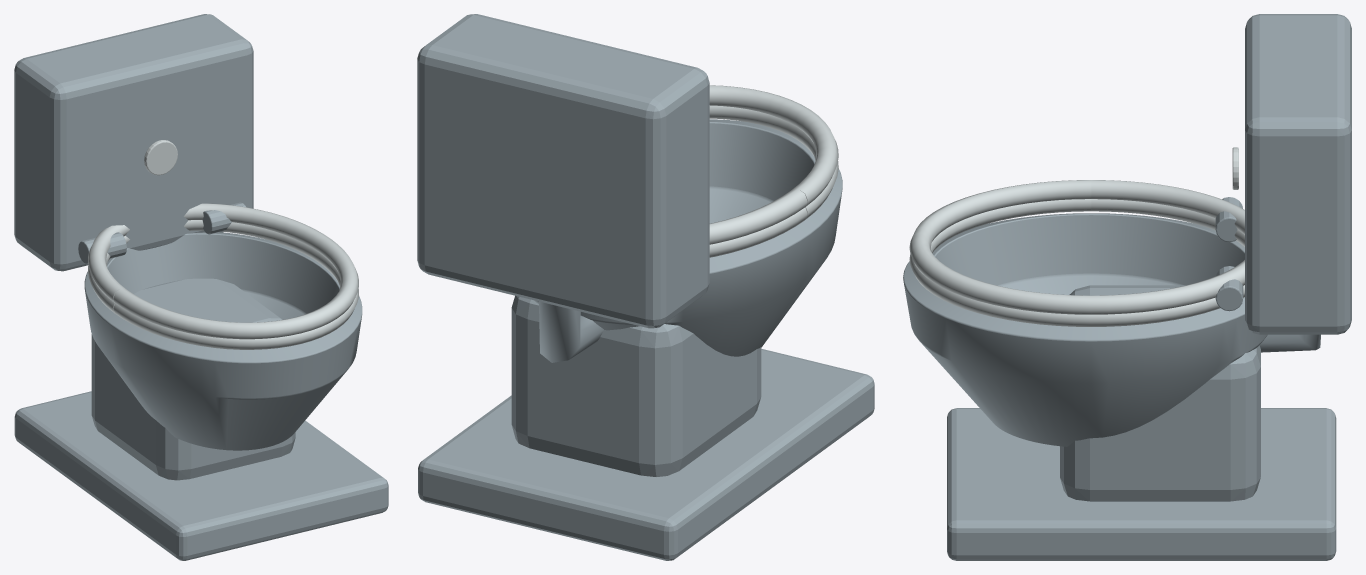
Rendered from RD_CompactToilet.fbx.
The picture shows the model from 3 angles, left to right: view 1: azimuth 30°, elevation 25°; view 2: azimuth 150°, elevation 25°; view 3: azimuth 270°, elevation 25°; orthographic projection. The views are drawn at different scales.
Visible parts, largest first — view 1: RD_CompactToilet; view 2: RD_CompactToilet; view 3: RD_CompactToilet.
Boxes of the visible parts, x1,y1,x2,y2 form: RD_CompactToilet: [14, 14, 388, 560]; RD_CompactToilet: [417, 14, 874, 560]; RD_CompactToilet: [903, 14, 1351, 560].
Bounding box in the file's own units: 47.95 × 77 × 71.47.
